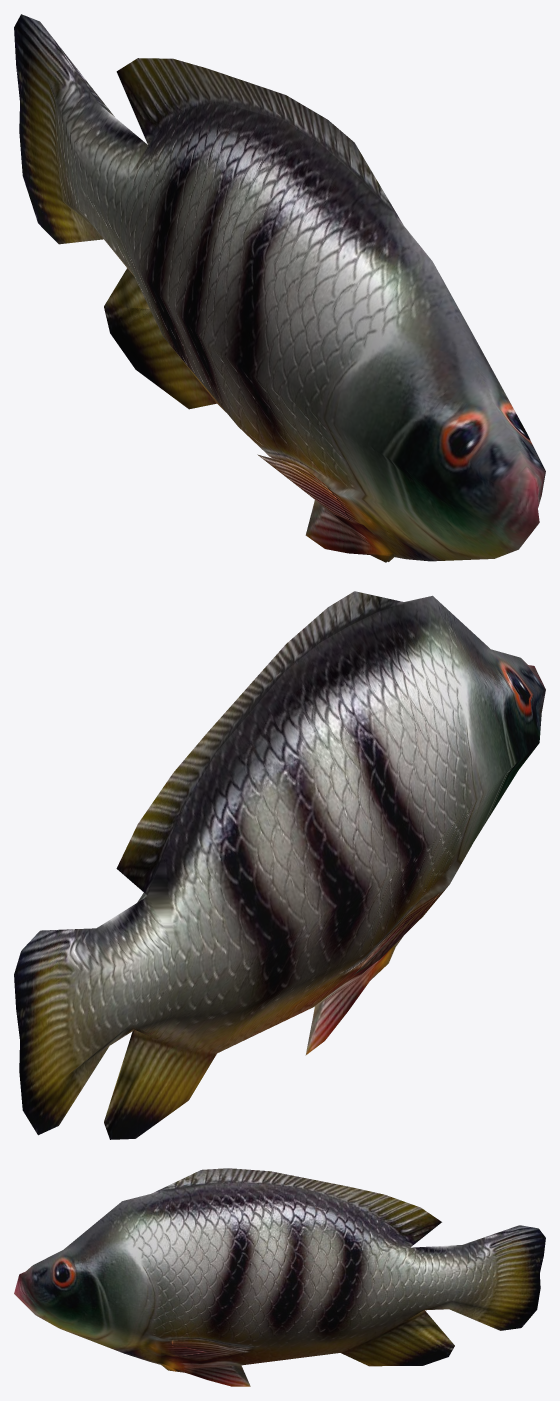
The model's file is Tilapia 1.fbx.
3 renders of one model, top to bottom at view 1: azimuth 30°, elevation 25°; view 2: azimuth 150°, elevation 25°; view 3: azimuth 270°, elevation 25°, orthographic. The views are drawn at different scales.
Visible parts, largest first — view 1: Plane; view 2: Plane; view 3: Plane.
Part boxes in pixels (left/top/right/bottom): Plane: left=14, top=14, right=545, bottom=562; Plane: left=14, top=591, right=545, bottom=1139; Plane: left=14, top=1168, right=545, bottom=1386.
Size of the model in its own units: 87.02 by 207 by 457.
